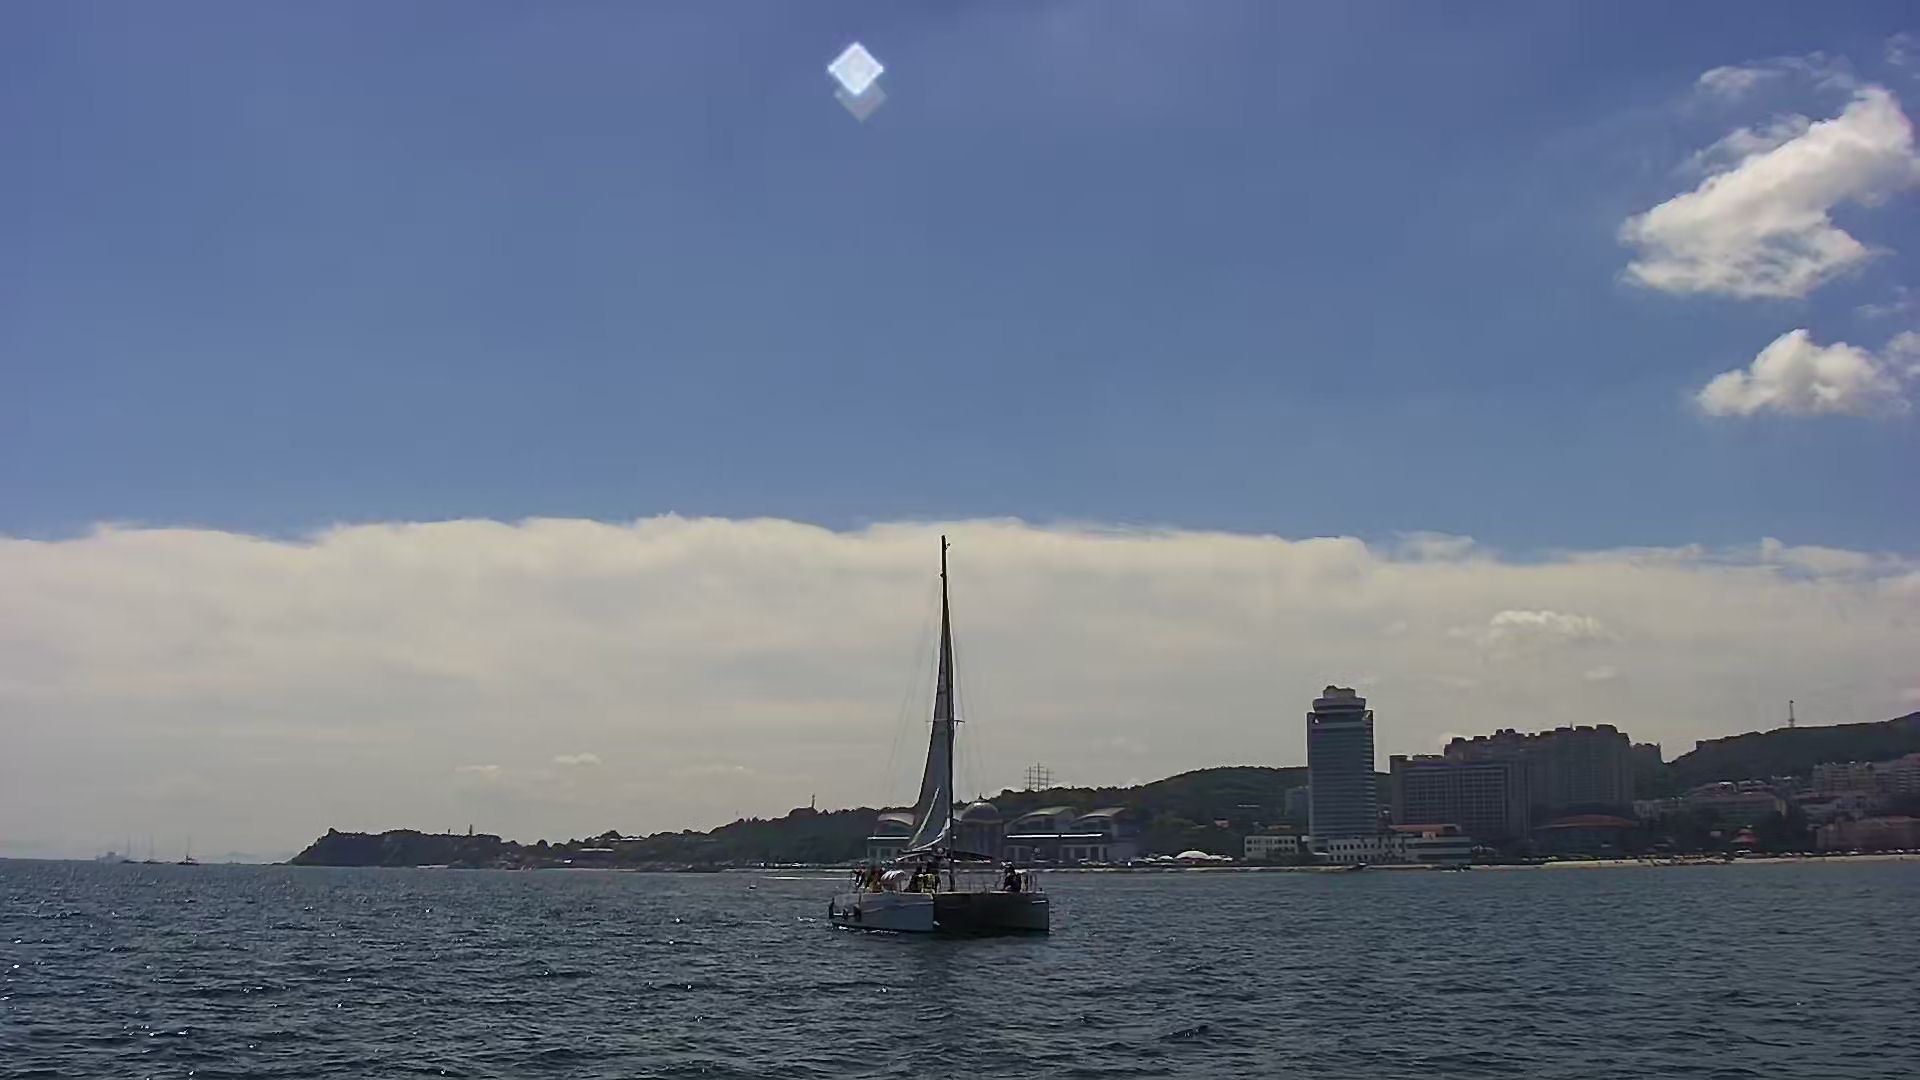boat: (833, 537, 1058, 942)
